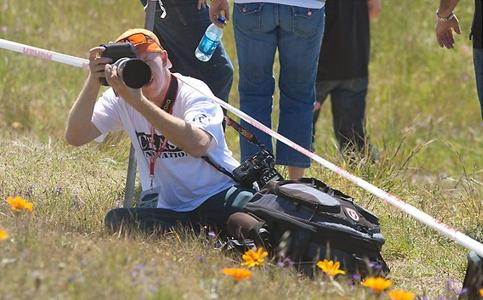person: (66, 29, 298, 262)
